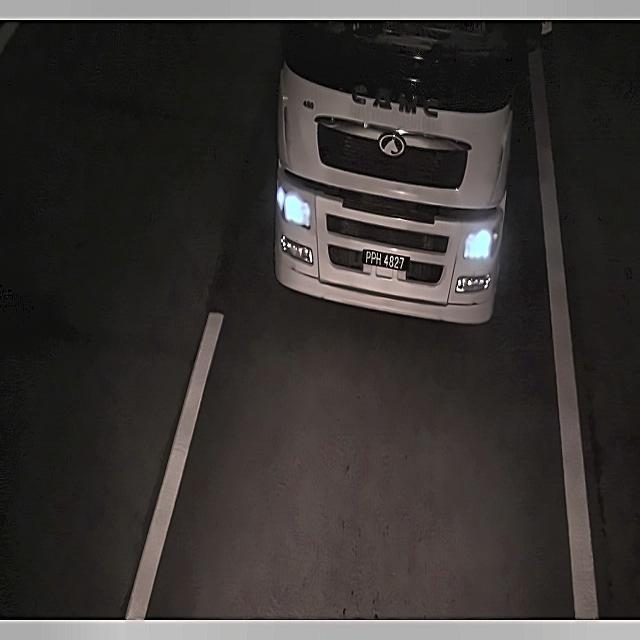car: (358, 245, 415, 273)
